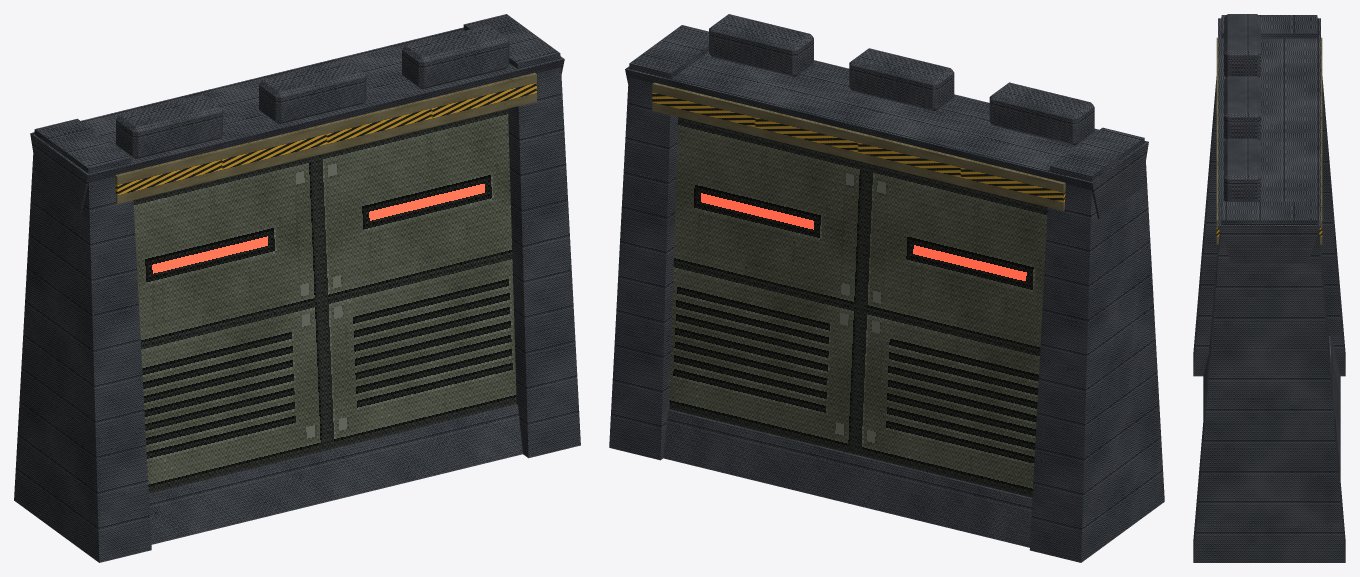
The model's file is bunker_wall.glb.
The picture shows the model from 3 angles, left to right: view 1: azimuth 30°, elevation 25°; view 2: azimuth 150°, elevation 25°; view 3: azimuth 270°, elevation 25°; orthographic projection. The views are drawn at different scales.
Parts seen in each view (by area): view 1: bunker_wall__mil_dark_steel, bunker_wall__mil_bunker_armor, bunker_wall__mil_hazard_trim; view 2: bunker_wall__mil_dark_steel, bunker_wall__mil_bunker_armor, bunker_wall__mil_hazard_trim; view 3: bunker_wall__mil_dark_steel, bunker_wall__mil_hazard_trim.
Part boxes in pixels (left/top/right/bottom): bunker_wall__mil_dark_steel: left=14, top=14, right=580, bottom=562; bunker_wall__mil_bunker_armor: left=133, top=108, right=516, bottom=493; bunker_wall__mil_hazard_trim: left=115, top=72, right=536, bottom=203; bunker_wall__mil_dark_steel: left=609, top=14, right=1164, bottom=562; bunker_wall__mil_bunker_armor: left=669, top=117, right=1047, bottom=497; bunker_wall__mil_hazard_trim: left=652, top=82, right=1065, bottom=210; bunker_wall__mil_dark_steel: left=1193, top=14, right=1345, bottom=562; bunker_wall__mil_hazard_trim: left=1216, top=37, right=1322, bottom=244.
Size of the model in its own units: 4.04 by 3.27 by 1.24.
Materials: 3 (3 with a texture image).
